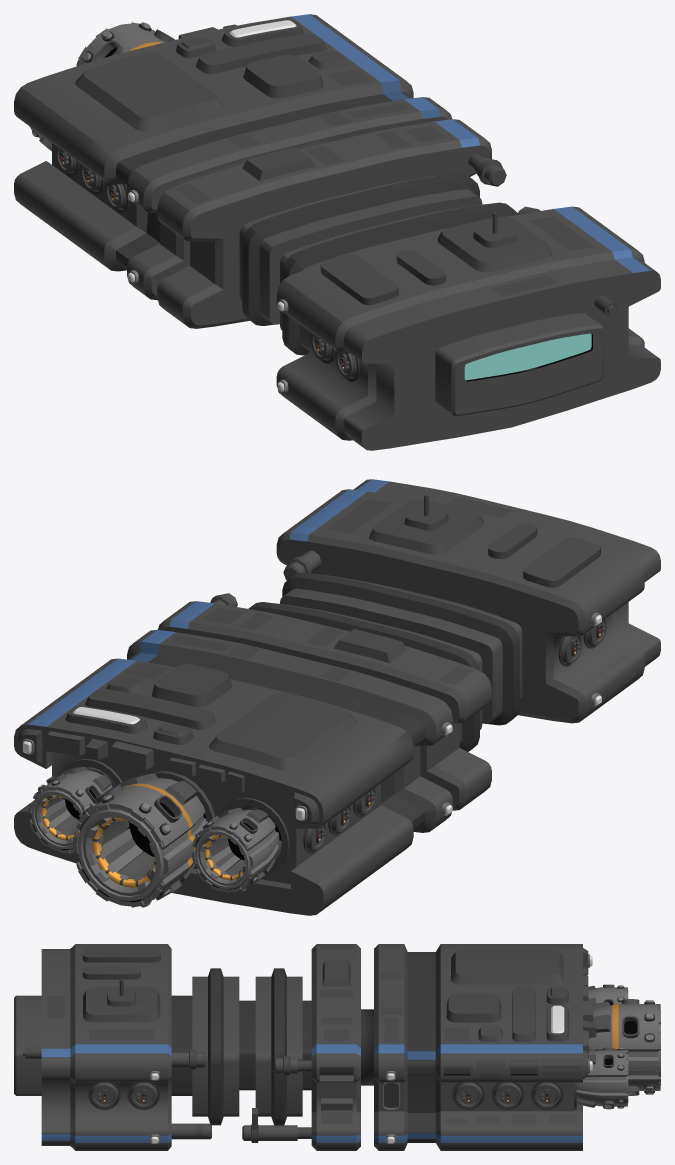
File: ship.fbx
The picture shows the model from 3 angles, top to bottom: view 1: azimuth 30°, elevation 25°; view 2: azimuth 150°, elevation 25°; view 3: azimuth 270°, elevation 25°; orthographic projection. The views are drawn at different scales.
Parts seen in each view (by area): view 1: Circle.003; view 2: Circle.003; view 3: Circle.003, Circle.002.
Boxes of the visible parts, x1,y1,x2,y2 form: Circle.003: (14,14,660,450); Circle.003: (14,479,660,915); Circle.003: (14,944,660,1150); Circle.002: (551,1005,564,1033).
Size of the model in its own units: 20.12 by 10.45 by 44.43.
